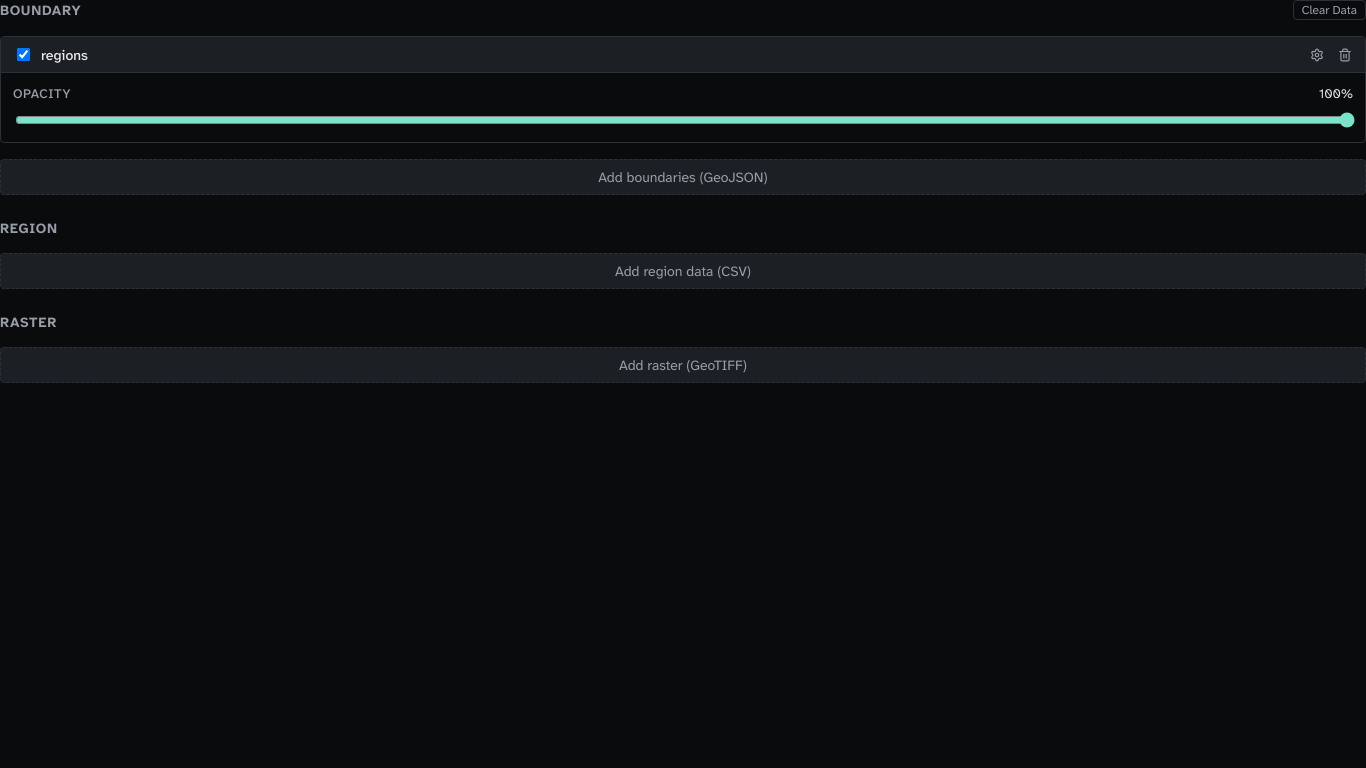
Test case: LayersPanel › gear icon reopens the coordinate dialog and re-applies a new order
The width and height of the screenshot is (1366, 768).
Click the button named "Coordinate order for regions" at (1317,54), box [1305,42,1329,66]
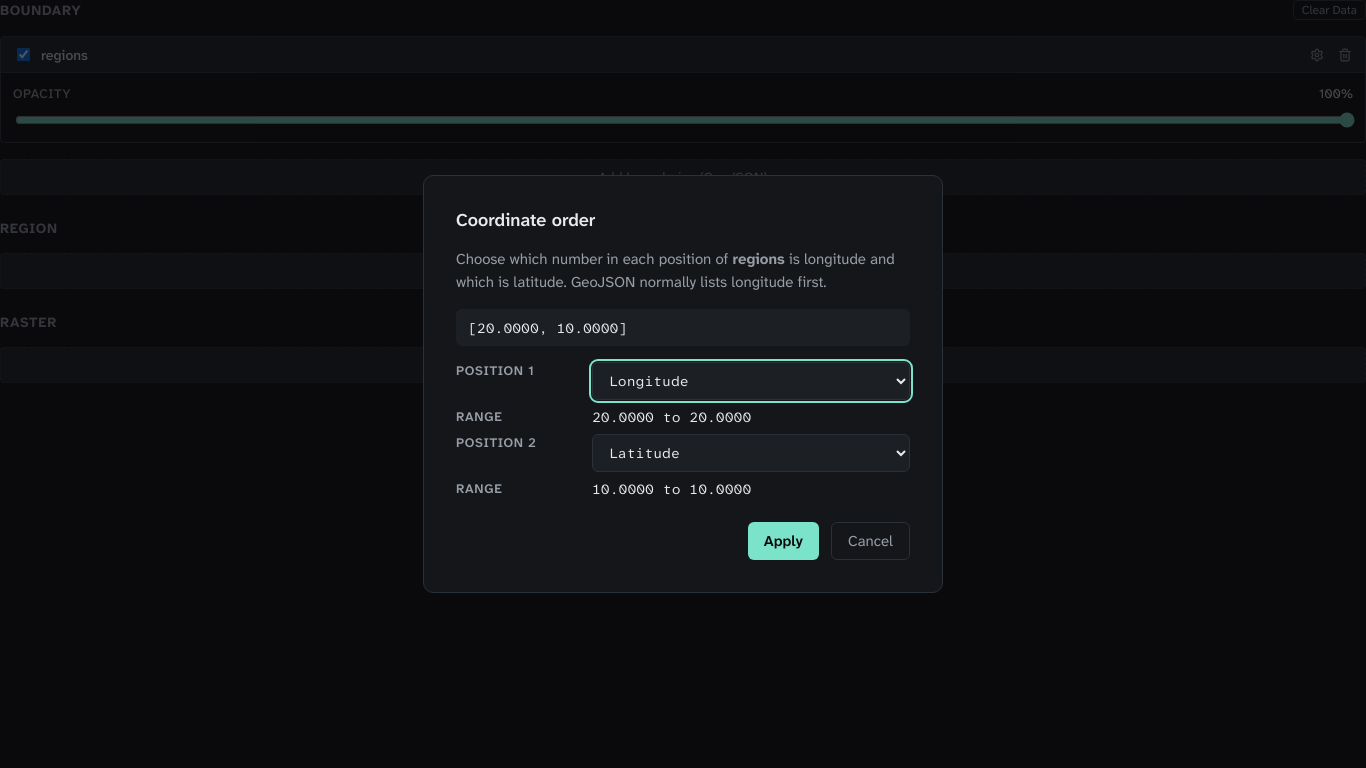
Expected: the dialog with test id "geojson-axis-modal" is shown, [423,175,943,593]
Expected: the dropdown with test id "geojson-axis-position-1" shows "Longitude"
Expected: the button with test id "geojson-axis-confirm" reads "Apply", [748,522,819,560]
Select "Latitude" in the dropdown with test id "geojson-axis-position-1" at (751,381), box [592,362,910,400]
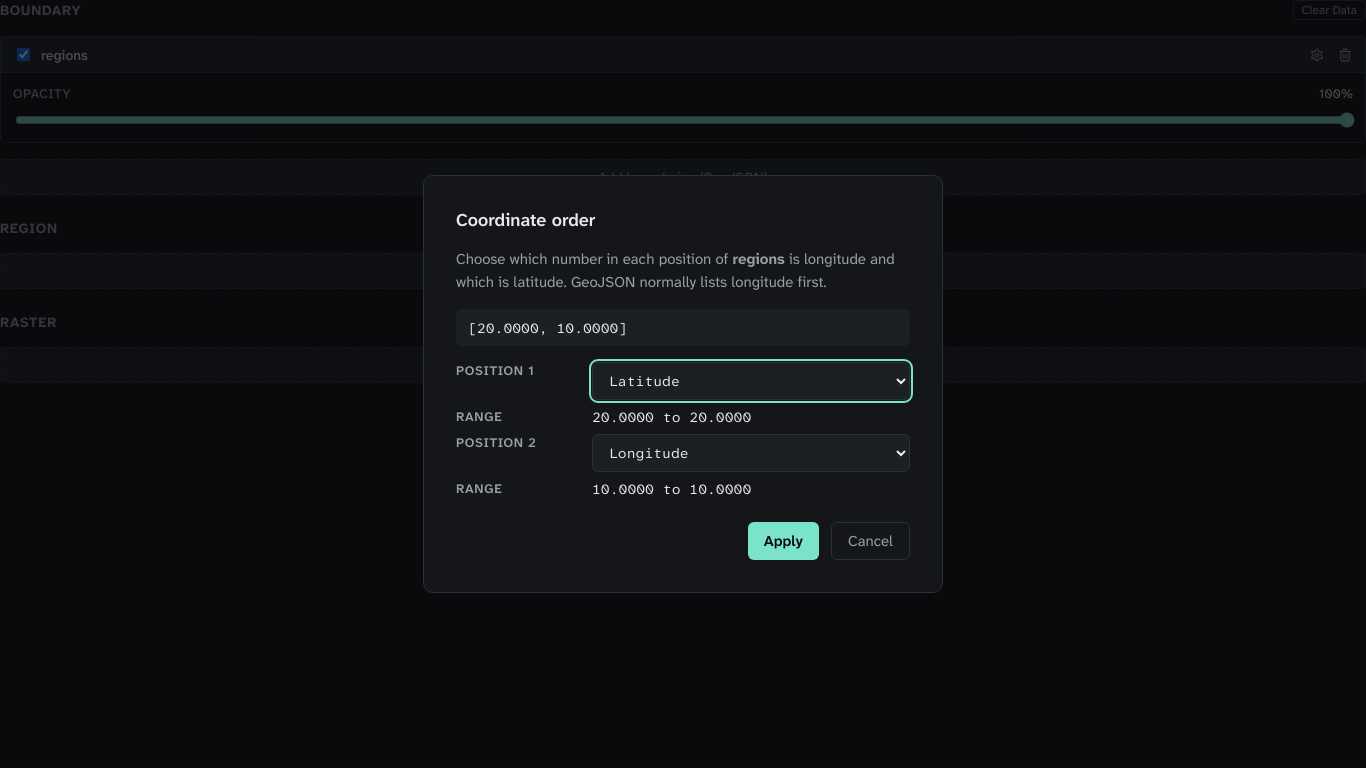
Click the button with test id "geojson-axis-confirm" at (783,541), box [748,522,819,560]
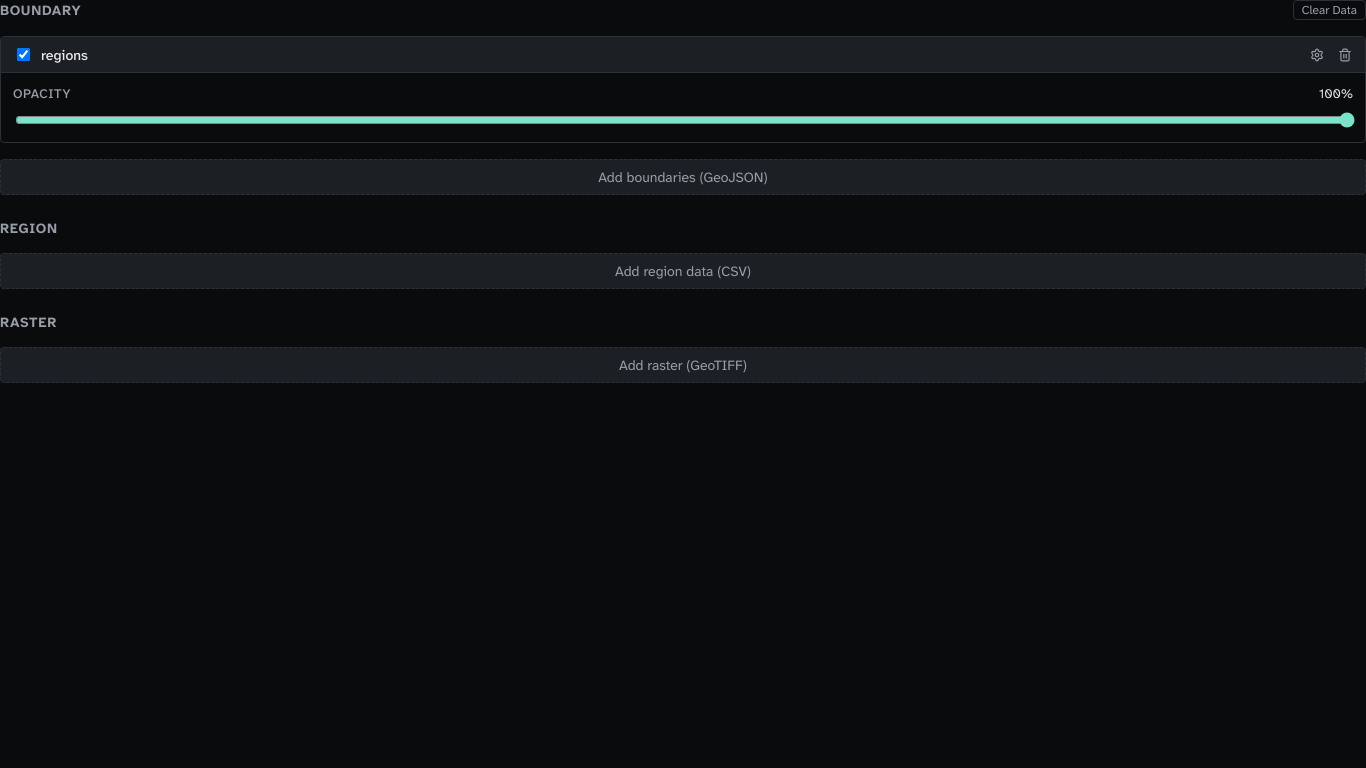
Expected: the dialog with test id "geojson-axis-modal" is gone
